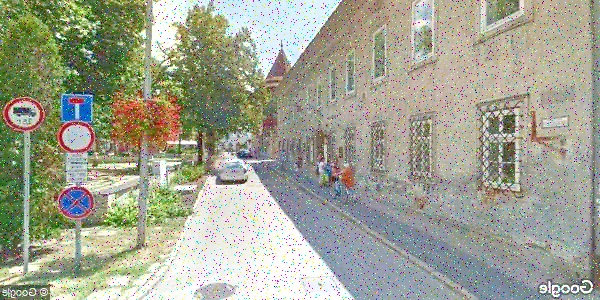c_road_closed: (57, 121, 95, 154)
e_no_stop_park: (56, 185, 95, 220)
f_others: (1, 96, 44, 132)
